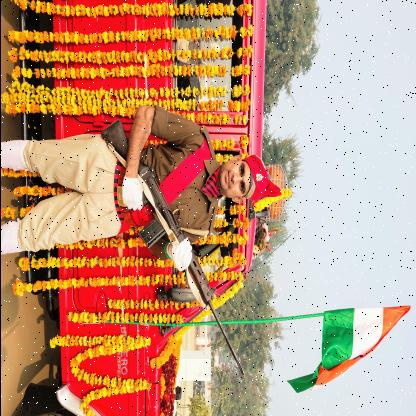rifle: (99, 118, 245, 376)
